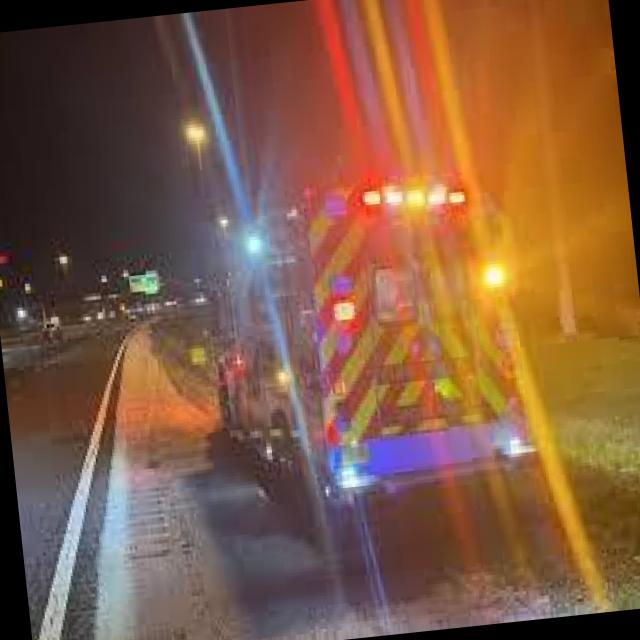ambulance: (184, 142, 576, 550)
